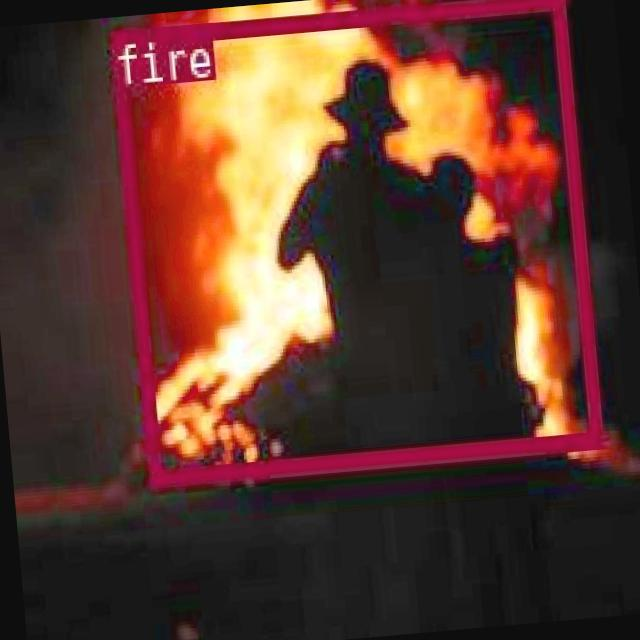fire: (109, 0, 601, 483)
